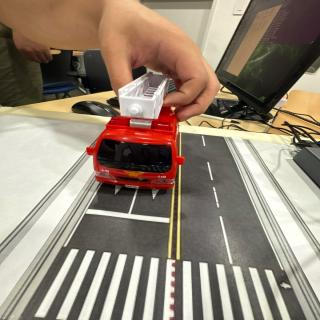Fire_truck: (87, 72, 184, 198)
